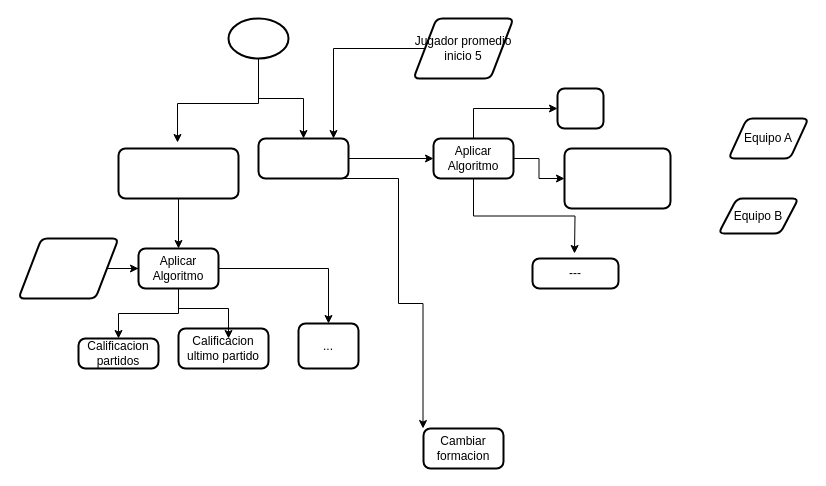
This 826x486 diagram has some shape labels left out. Here are the shapes that lost their labels. From the top down, the centre of each, then its label:
At (580,108): "par / impar".
At (178,173): "Ordenar lista de mejor a peor jugador".
At (303,158): "Organizar Equipo".
At (617,178): "1°, 4°, 5°, 8° y 9° 2°, 3°, 6°, 7° y 10°".
At (68,268): "Partidos calificacion".
